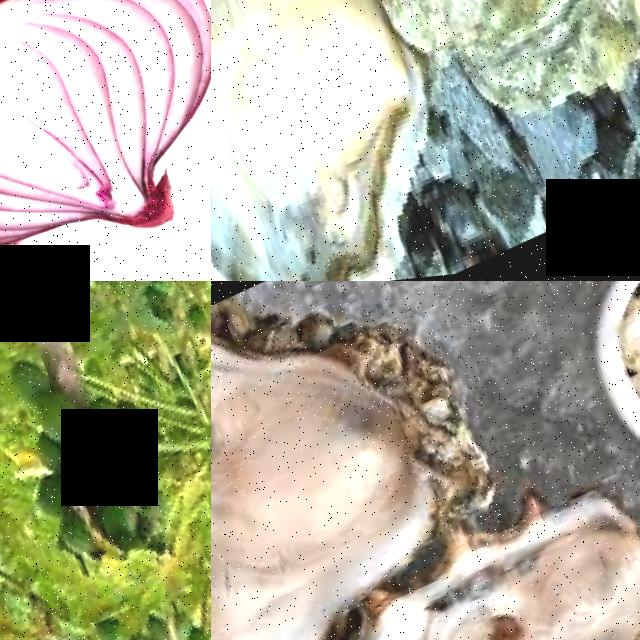onion: (0, 0, 211, 281)
oysters: (211, 281, 512, 640), (211, 0, 490, 281), (220, 479, 640, 640), (263, 0, 640, 174)
pawpaw: (51, 423, 116, 501), (22, 385, 82, 462)
